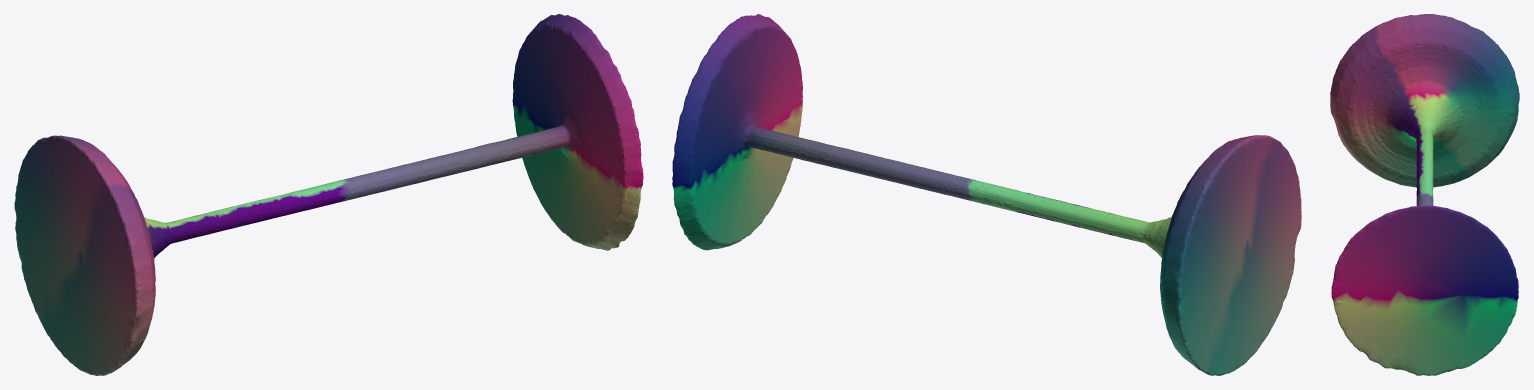
Rendered from lamp-14.off.obj.
3 renders of one model, left to right at view 1: azimuth 30°, elevation 25°; view 2: azimuth 150°, elevation 25°; view 3: azimuth 270°, elevation 25°, orthographic. The views are drawn at different scales.
Size of the model in its own units: 1.65 by 0.6899 by 0.6877.
